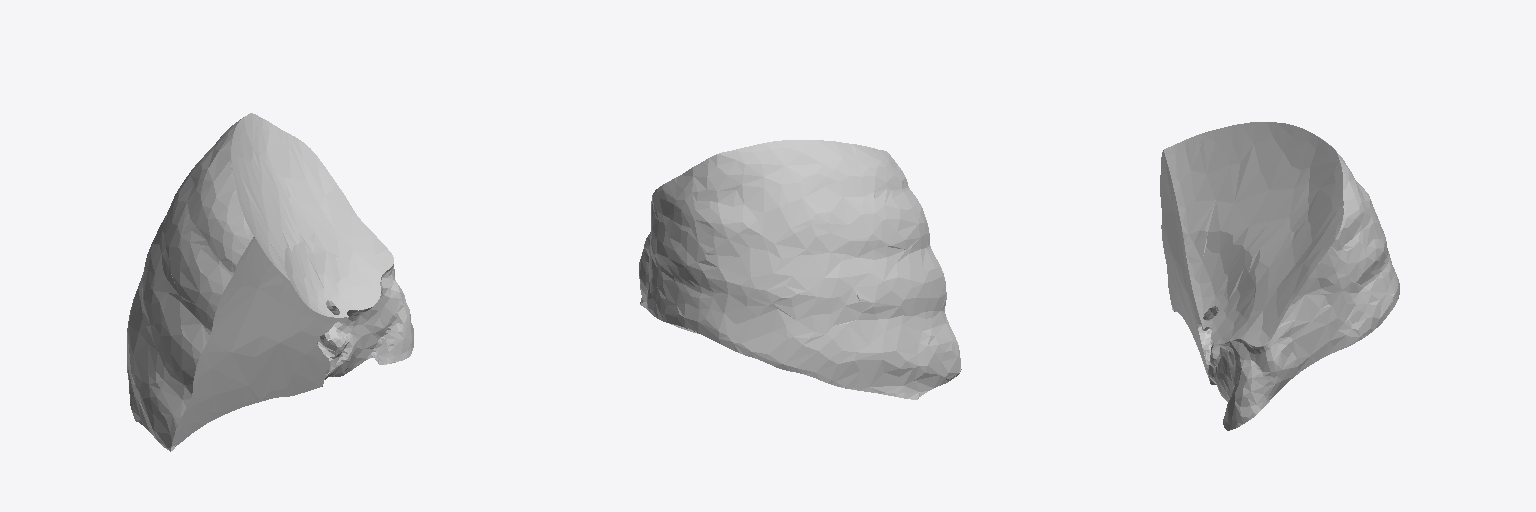
3 views of the same model, side by side, from view 1: azimuth 30°, elevation 25°; view 2: azimuth 150°, elevation 25°; view 3: azimuth 270°, elevation 25° (orthographic).
Visible parts, largest first — view 1: Polygonal_Model_10_Triangles_0; view 2: Polygonal_Model_10_Triangles_0; view 3: Polygonal_Model_10_Triangles_0.
Part boxes in pixels (left/top/right/bottom): Polygonal_Model_10_Triangles_0: left=127, top=113, right=413, bottom=451; Polygonal_Model_10_Triangles_0: left=639, top=140, right=961, bottom=399; Polygonal_Model_10_Triangles_0: left=1160, top=122, right=1399, bottom=430.
Bounding box in the file's own units: 5.09 × 4.28 × 3.77.